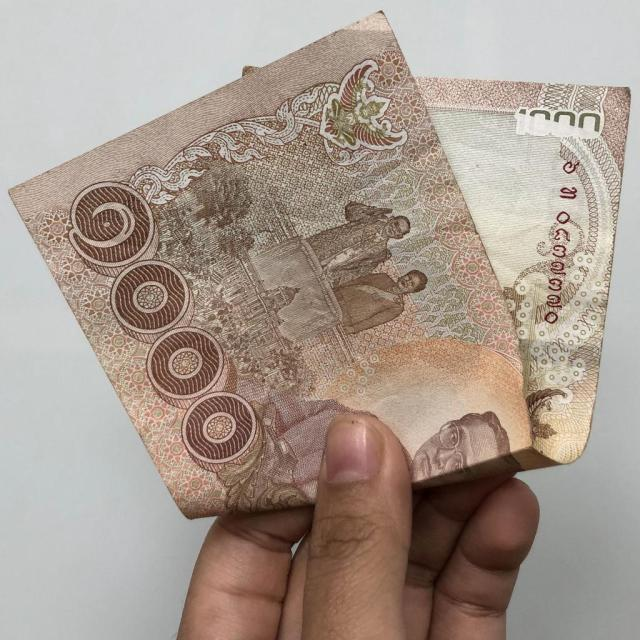THAI1000: (11, 12, 629, 517)
